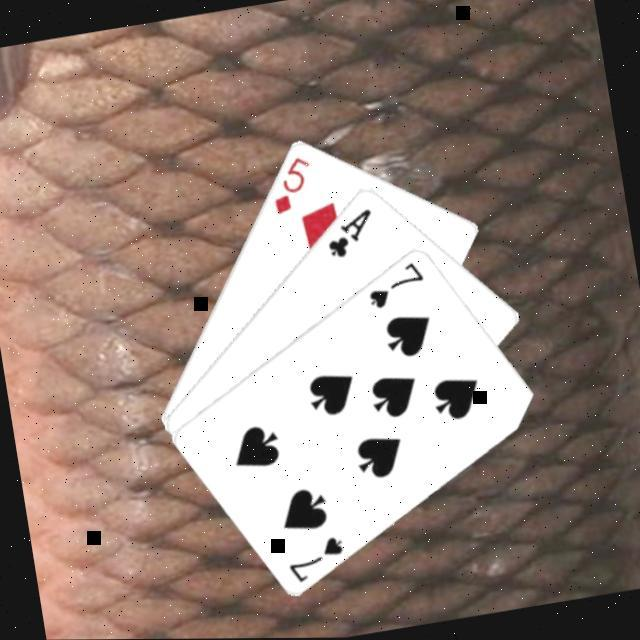5D: (264, 150, 322, 217)
7S: (362, 254, 433, 312), (284, 528, 352, 586)
AC: (321, 202, 384, 260)
